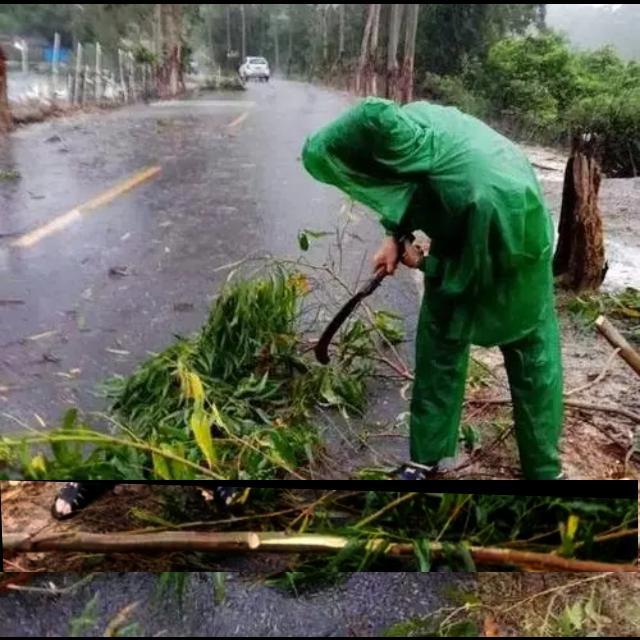Fallen Tree: (0, 480, 639, 573)
